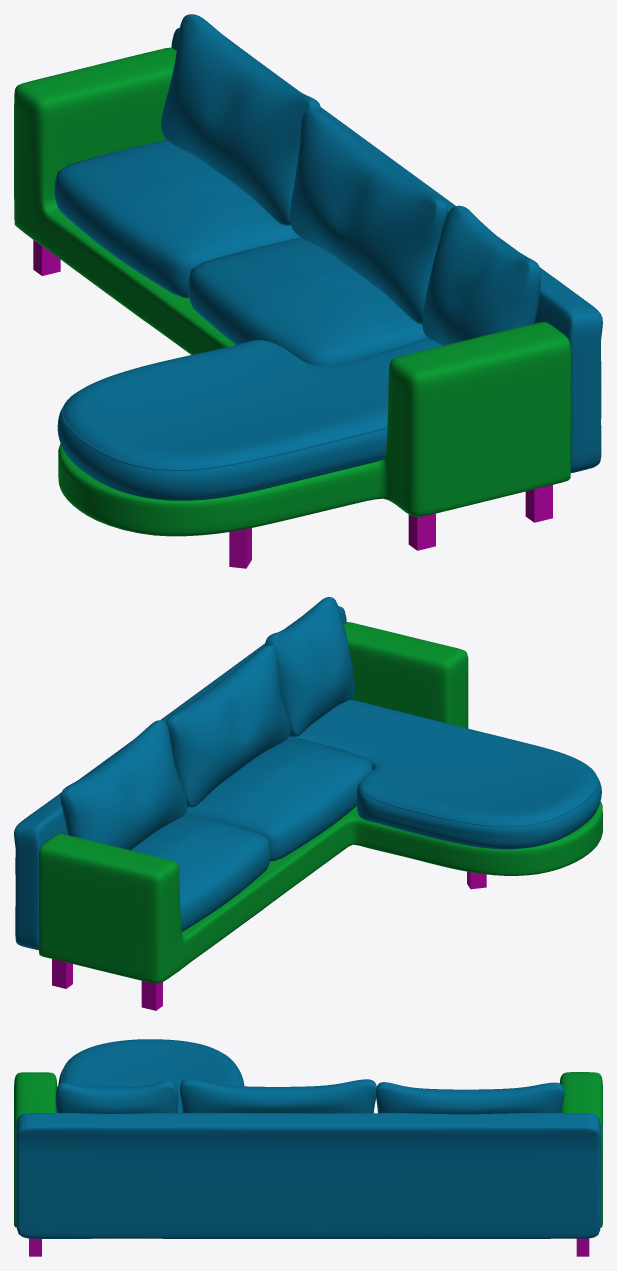
The model's file is A_JD_Sofa_001.fbx.
3 views of the same model, one above another, from view 1: azimuth 30°, elevation 25°; view 2: azimuth 150°, elevation 25°; view 3: azimuth 270°, elevation 25° (orthographic). The views are drawn at different scales.
Visible parts, largest first — view 1: Object012; view 2: Object012; view 3: Object012.
Boxes of the visible parts, left/top/right/bottom form: Object012: left=14, top=14, right=602, bottom=568; Object012: left=14, top=597, right=602, bottom=1010; Object012: left=14, top=1039, right=602, bottom=1256.
Size of the model in its own units: 152 by 79.94 by 242.
